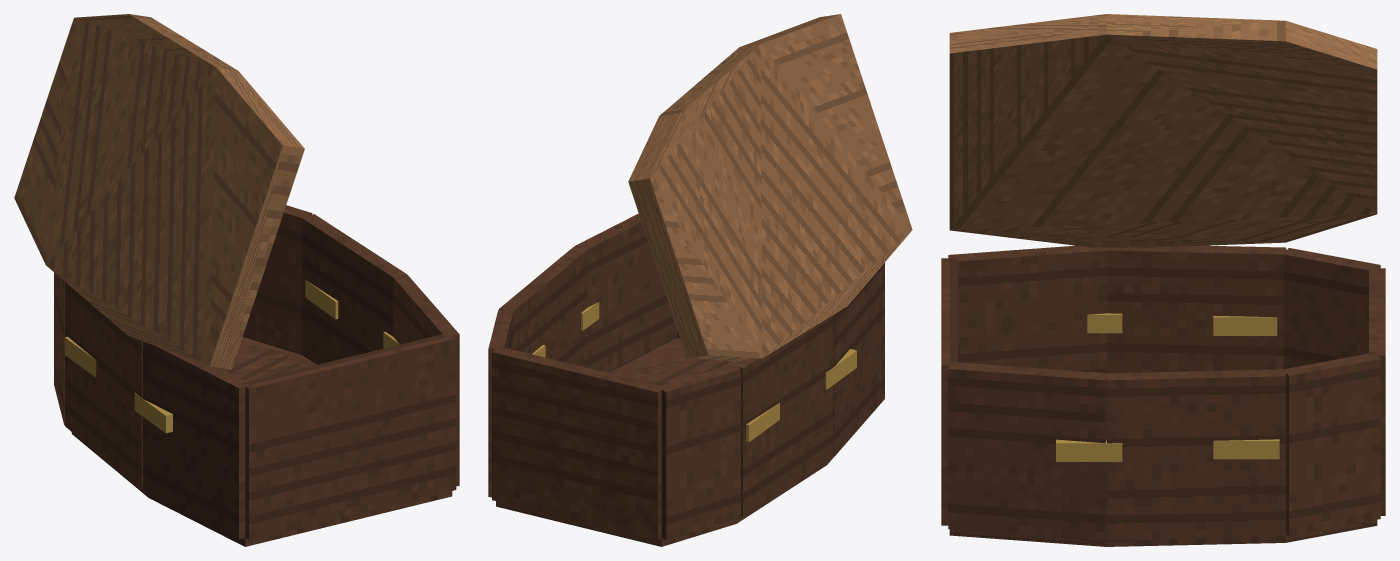
File: f_coffin_o.glb
3 views of the same model, side by side, from view 1: azimuth 30°, elevation 25°; view 2: azimuth 150°, elevation 25°; view 3: azimuth 270°, elevation 25° (orthographic). The views are drawn at different scales.
Parts seen in each view (by area): view 1: block_tapered-wood-panel (×7), block_tapered-lid, block_casket-floor, block_carry-handle (×3); view 2: block_tapered-wood-panel (×7), block_tapered-lid, block_casket-floor, block_carry-handle (×2); view 3: block_tapered-wood-panel (×8), block_tapered-lid, block_carry-handle (×4), block_casket-floor.
Part boxes in pixels (x1,y1,x2,y2): block_tapered-wood-panel (×7): [54, 205, 459, 540]; block_tapered-lid: [14, 14, 304, 369]; block_casket-floor: [71, 337, 452, 546]; block_carry-handle (×3): [65, 280, 338, 433]; block_tapered-wood-panel (×7): [488, 213, 884, 540]; block_tapered-lid: [628, 14, 912, 361]; block_casket-floor: [496, 338, 833, 546]; block_carry-handle (×2): [746, 349, 856, 441]; block_tapered-wood-panel (×8): [941, 245, 1385, 540]; block_tapered-lid: [949, 14, 1377, 247]; block_carry-handle (×4): [1056, 313, 1279, 461]; block_casket-floor: [949, 520, 1377, 546].
Size of the model in its own units: 0.7821 by 1.11 by 1.02.
1 material, 1 textured.
